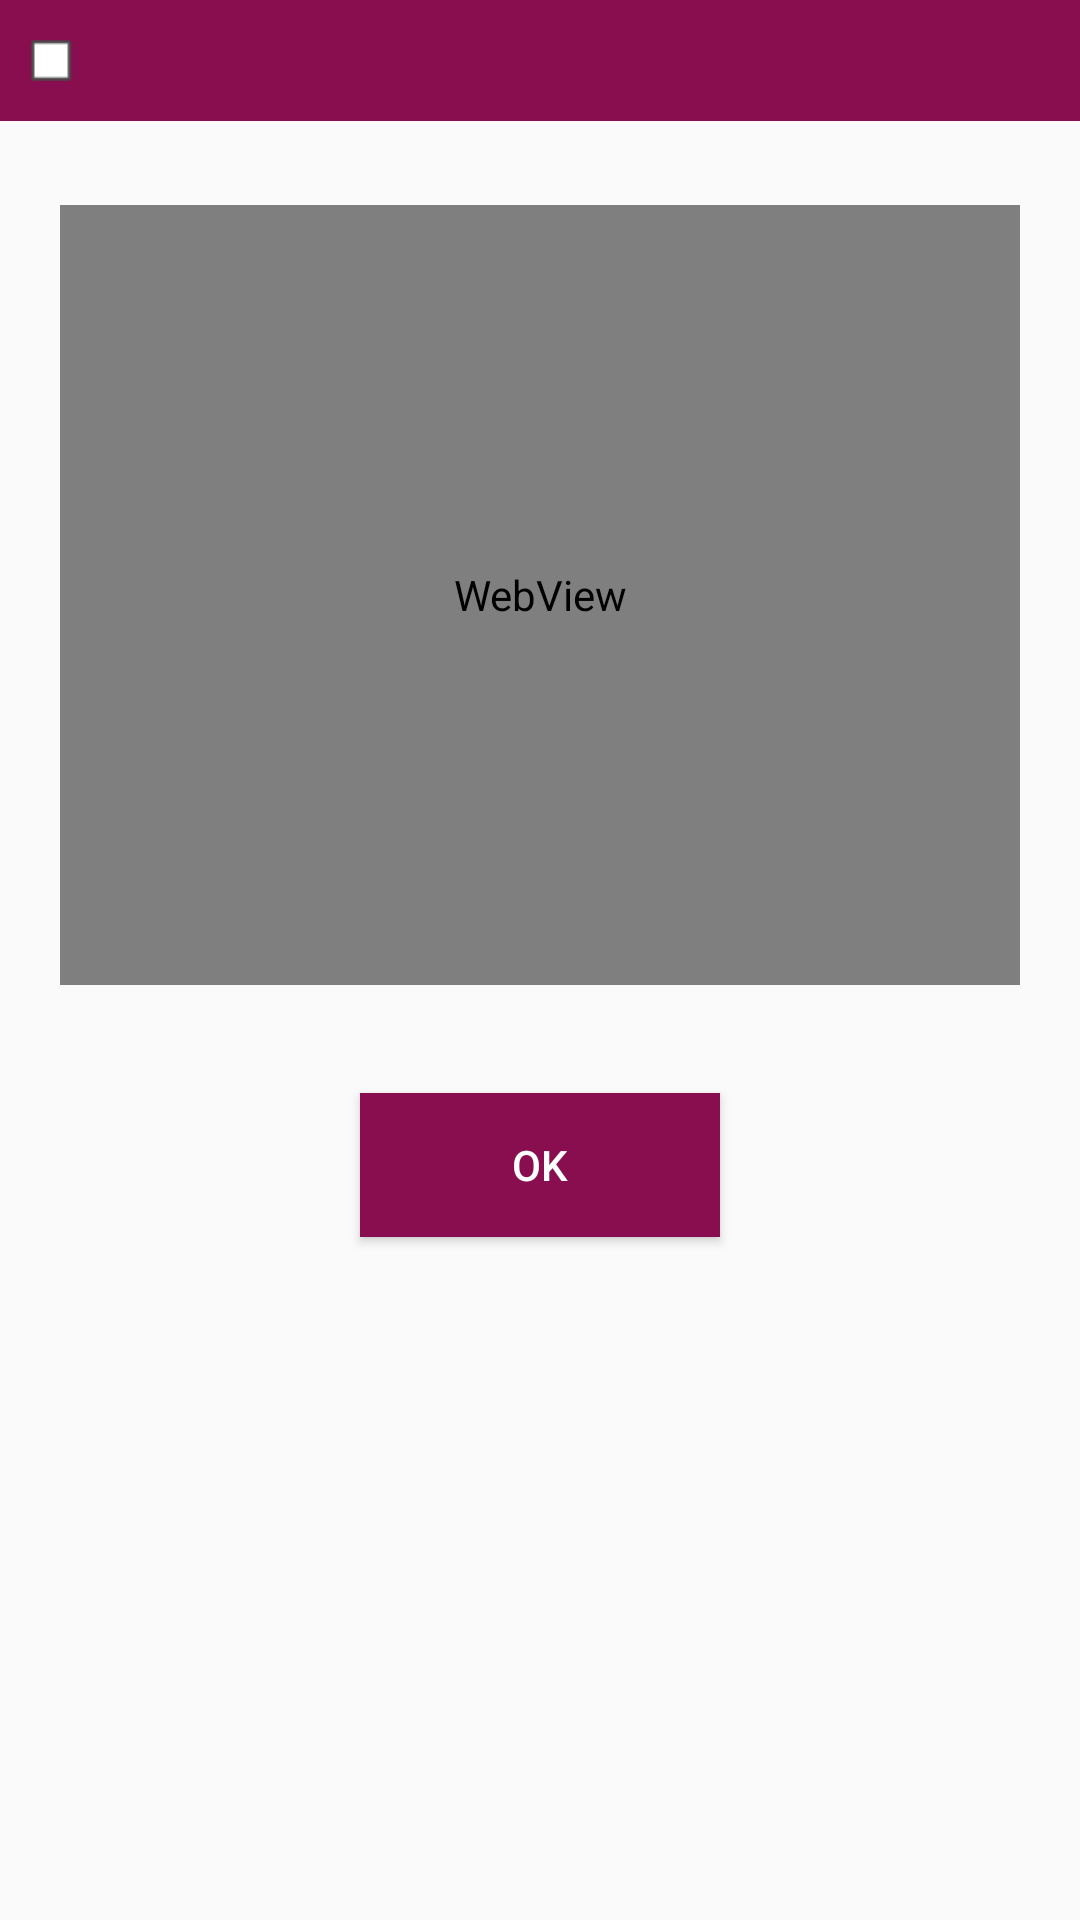

Where to tap for icons on this 1080px x 1920px app screen, as (x,y):
box uncheck: (51,60)
